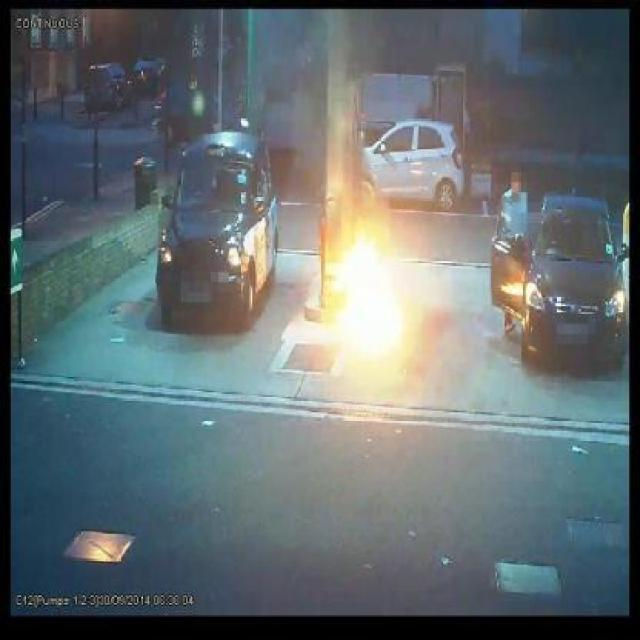Fire: (336, 233, 404, 356)
